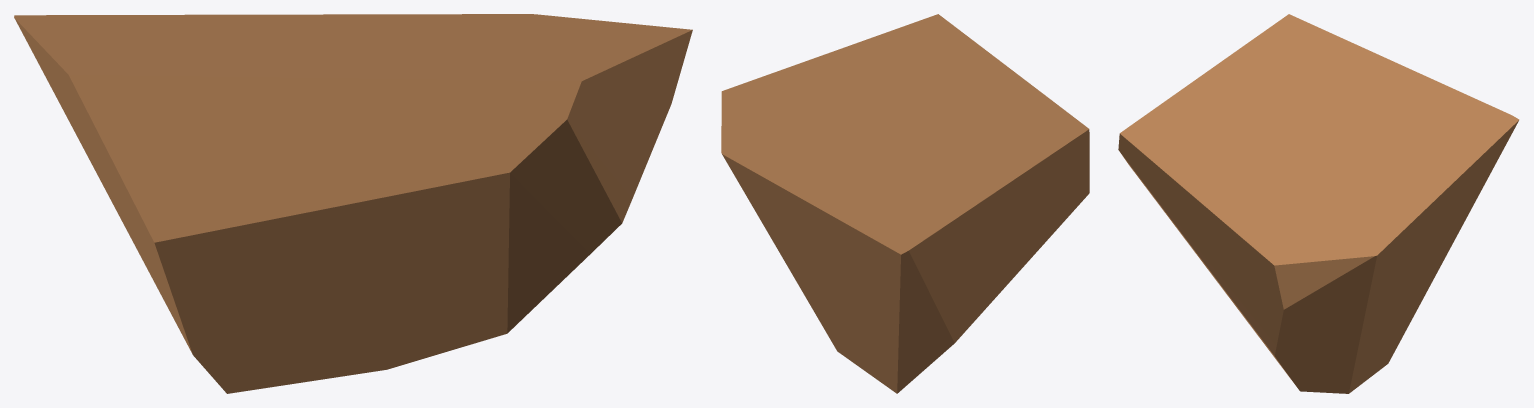
The model's file is asteroid_1_2.glb.
3 views of the same model, side by side, from view 1: azimuth 30°, elevation 25°; view 2: azimuth 150°, elevation 25°; view 3: azimuth 270°, elevation 25° (orthographic). The views are drawn at different scales.
Parts seen in each view (by area): view 1: Asteriod_cell_1_2; view 2: Asteriod_cell_1_2; view 3: Asteriod_cell_1_2.
Boxes of the visible parts, x1,y1,x2,y2 form: Asteriod_cell_1_2: (14, 14, 692, 393); Asteriod_cell_1_2: (721, 14, 1089, 393); Asteriod_cell_1_2: (1118, 14, 1519, 393).
Bounding box in the file's own units: 1.41 × 0.955 × 1.26.
